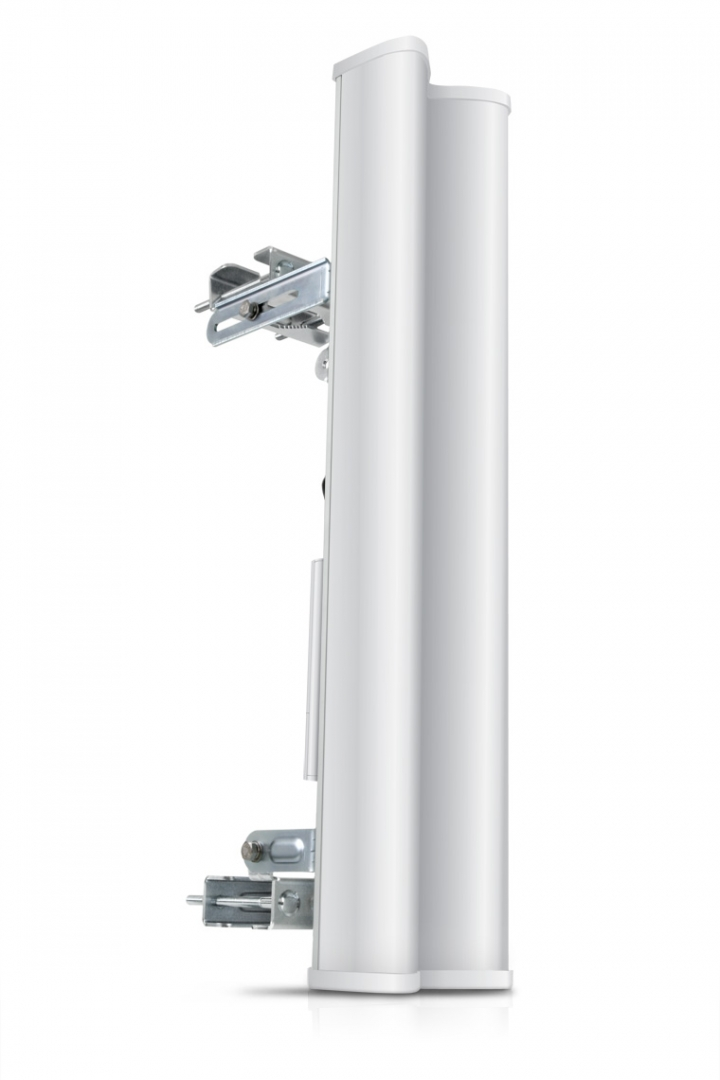sa: (246, 25, 571, 1032)
